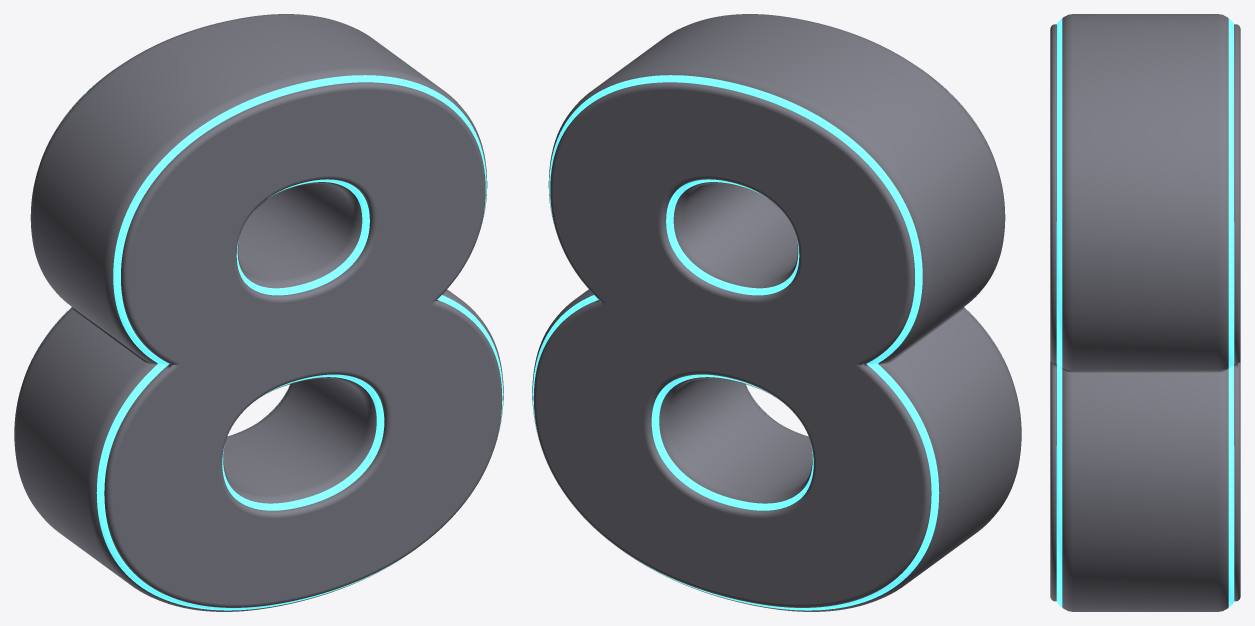
3 views of the same model, side by side, from view 1: azimuth 30°, elevation 25°; view 2: azimuth 150°, elevation 25°; view 3: azimuth 270°, elevation 25° (orthographic).
Parts seen in each view (by area): view 1: N_8_smaller, N_8_side, N_8_border; view 2: N_8_smaller, N_8_side, N_8_border; view 3: N_8_side, N_8_smaller, N_8_border.
Part boxes in pixels (bbox=[...]): N_8_smaller: bbox=[24, 70, 502, 607]; N_8_side: bbox=[14, 14, 503, 611]; N_8_border: bbox=[43, 75, 503, 610]; N_8_smaller: bbox=[533, 70, 1011, 607]; N_8_side: bbox=[532, 14, 1021, 611]; N_8_border: bbox=[532, 75, 992, 610]; N_8_side: bbox=[1062, 14, 1228, 611]; N_8_smaller: bbox=[1050, 24, 1240, 601]; N_8_border: bbox=[1056, 19, 1234, 606].
Bounding box in the file's own units: 46.96 × 56.95 × 18.4.
